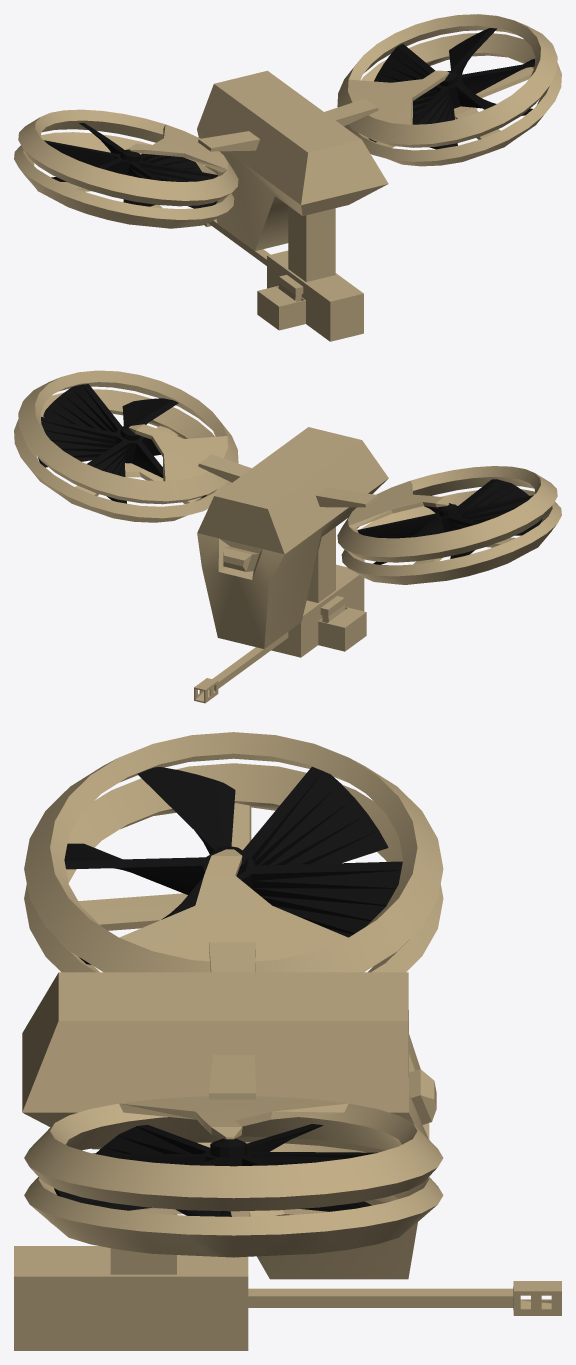
The model's file is BigDrone.fbx.
3 renders of one model, top to bottom at view 1: azimuth 30°, elevation 25°; view 2: azimuth 150°, elevation 25°; view 3: azimuth 270°, elevation 25°, orthographic. The views are drawn at different scales.
Parts seen in each view (by area): view 1: Box001, UpperWing, LowerWing, Cylinder001, Box002; view 2: Box001, UpperWing, LowerWing, Cylinder001, Box002; view 3: UpperWing, Box001, LowerWing, Cylinder001, Box002.
Boxes of the visible parts, x1=… form: Box001: x1=197, y1=70, x2=388, y2=281; UpperWing: x1=18, y1=14, x2=557, y2=206; LowerWing: x1=14, y1=33, x2=561, y2=228; Cylinder001: x1=44, y1=28, x2=534, y2=208; Box002: x1=204, y1=219, x2=363, y2=341; Box001: x1=197, y1=427, x2=388, y2=648; UpperWing: x1=18, y1=370, x2=557, y2=562; LowerWing: x1=14, y1=389, x2=561, y2=584; Cylinder001: x1=38, y1=384, x2=542, y2=564; Box002: x1=194, y1=564, x2=366, y2=703; UpperWing: x1=24, y1=732, x2=443, y2=1211; Box001: x1=22, y1=942, x2=436, y2=1279; LowerWing: x1=24, y1=763, x2=443, y2=1257; Cylinder001: x1=54, y1=766, x2=402, y2=1216; Box002: x1=14, y1=1246, x2=561, y2=1350.
Bounding box in the file's own units: 148 × 56.78 × 72.95.
